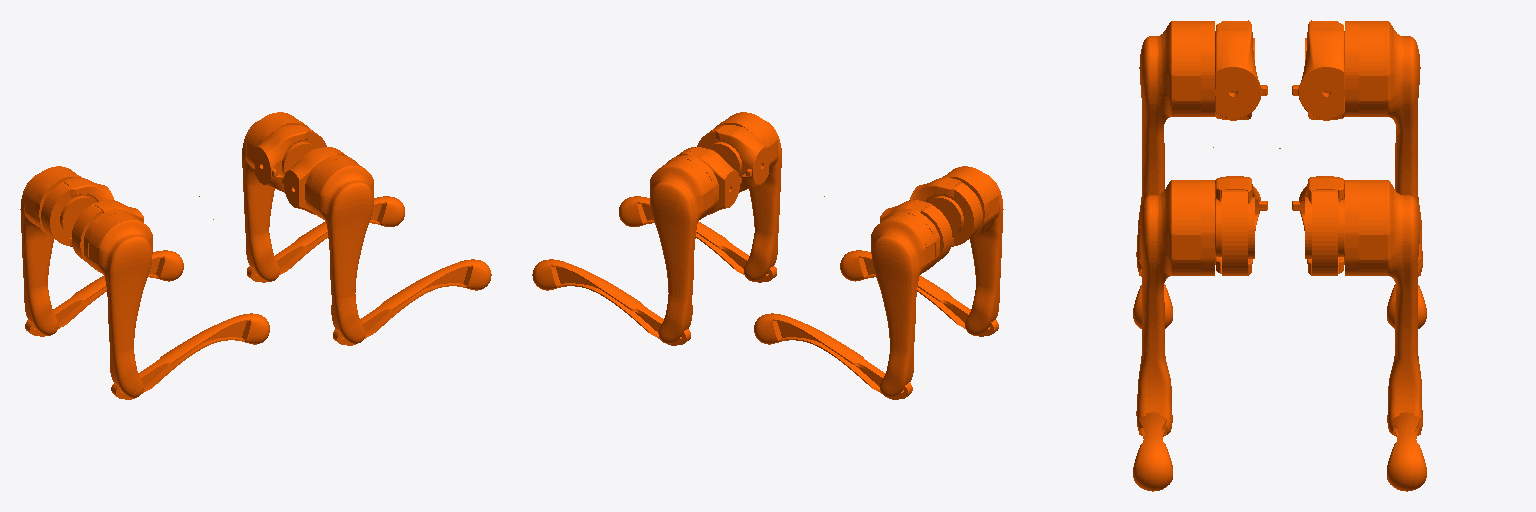
--- What the picture shows (computed from the rendered views, not written in the file) ---
3 views of the same robot in one strip: view 1: azimuth 30°, elevation 25°; view 2: azimuth 150°, elevation 25°; view 3: azimuth 270°, elevation 25° (orthographic).
Robot: widowGo1 — 37 links, 36 joints (18 revolute, 2 prismatic, 16 fixed); root link base; default pose: all joints at 0 but 6 set to mid-range because 0 is outside their limits (widow_left_finger = 0.026, widow_right_finger = -0.026, FR_calf_joint = -1.78, FL_calf_joint = -1.78, RR_calf_joint = -1.78, RL_calf_joint = -1.78).
Visible links, largest first — view 1: RR_thigh, FR_thigh, RL_thigh, FL_thigh, RR_calf, FR_calf, FL_hip, RL_hip, RL_calf, FL_calf, FR_hip, RR_hip; view 2: RL_thigh, FL_thigh, RR_thigh, FR_thigh, RL_calf, FL_calf, FR_hip, RR_hip, RR_calf, FR_calf, FL_hip, RL_hip; view 3: FR_thigh, FL_thigh, RR_thigh, RL_thigh, FR_hip, FL_hip, RR_hip, RL_hip, FR_calf, FL_calf, RR_calf, RL_calf.
Link boxes in pixels (<box>): RR_thigh: <box>84,209,152,397</box>; FR_thigh: <box>305,155,373,343</box>; RL_thigh: <box>20,166,81,335</box>; FL_thigh: <box>242,112,308,281</box>; RR_calf: <box>111,313,269,399</box>; FR_calf: <box>333,259,491,345</box>; FL_hip: <box>255,125,326,192</box>; RL_hip: <box>41,177,114,246</box>; RL_calf: <box>25,250,183,336</box>; FL_calf: <box>247,196,404,282</box>; FR_hip: <box>282,147,347,214</box>; RR_hip: <box>72,200,143,262</box>; RL_thigh: <box>871,209,939,397</box>; FL_thigh: <box>650,155,718,343</box>; RR_thigh: <box>942,166,1003,335</box>; FR_thigh: <box>715,112,781,281</box>; RL_calf: <box>754,313,912,399</box>; FL_calf: <box>532,259,690,345</box>; FR_hip: <box>697,125,768,192</box>; RR_hip: <box>909,177,982,246</box>; RR_calf: <box>840,250,998,336</box>; FR_calf: <box>619,196,776,282</box>; FL_hip: <box>676,147,741,214</box>; RL_hip: <box>880,200,951,262</box>; FR_thigh: <box>1136,180,1214,435</box>; FL_thigh: <box>1345,180,1422,435</box>; RR_thigh: <box>1136,21,1214,271</box>; RL_thigh: <box>1345,21,1422,271</box>; FR_hip: <box>1215,176,1267,275</box>; FL_hip: <box>1292,176,1344,275</box>; RR_hip: <box>1215,20,1267,120</box>; RL_hip: <box>1292,20,1344,120</box>; FR_calf: <box>1133,412,1172,491</box>; FL_calf: <box>1387,412,1426,491</box>; RR_calf: <box>1133,258,1172,328</box>; RL_calf: <box>1387,258,1426,328</box>.
Size in the robot's own frame: 0.6549 by 0.294 by 0.2793 metres.
12 mesh visuals loaded from 15 distinct referenced files (4 Collada DAE); not drawn: 12 (reference not matched to a file when rendering).

The robot description file, URDF, robot "widowGo1":
<?xml version="1.0" ?>
<!-- =================================================================================== -->
<!-- |    This document was autogenerated by xacro from robot.xacro                    | -->
<!-- |    EDITING THIS FILE BY HAND IS NOT RECOMMENDED                                 | -->
<!-- =================================================================================== -->
<robot name="widowGo1">
  <material name="black">
    <color rgba="0.0 0.0 0.0 1.0"/>
  </material>
  <material name="blue">
    <color rgba="0.0 0.0 0.8 1.0"/>
  </material>
  <material name="green">
    <color rgba="0.0 0.8 0.0 1.0"/>
  </material>
  <material name="grey">
    <color rgba="0.2 0.2 0.2 1.0"/>
  </material>
  <material name="silver">
    <color rgba="0.913725490196 0.913725490196 0.847058823529 1.0"/>
  </material>
  <material name="orange">
    <color rgba="1.0 0.423529411765 0.0392156862745 1.0"/>
  </material>
  <material name="brown">
    <color rgba="0.870588235294 0.811764705882 0.764705882353 1.0"/>
  </material>
  <material name="red">
    <color rgba="0.8 0.0 0.0 1.0"/>
  </material>
  <material name="white">
    <color rgba="1.0 1.0 1.0 1.0"/>
  </material>
  <!-- ros_control plugin -->
  <gazebo>
    <plugin filename="libgazebo_ros_control.so" name="gazebo_ros_control">
      <robotNamespace>/go1_gazebo</robotNamespace>
      <robotSimType>gazebo_ros_control/DefaultRobotHWSim</robotSimType>
    </plugin>
  </gazebo>
  <!-- Show the trajectory of trunk center. -->
  <gazebo>
    <plugin filename="libLinkPlot3DPlugin.so" name="3dplot">
      <frequency>10</frequency>
      <plot>
        <link>base</link>
        <pose>0 0 0 0 0 0</pose>
        <material>Gazebo/Yellow</material>
      </plot>
    </plugin>
  </gazebo>
  <!-- Show the trajectory of foot. You can add another trajectory about another foot. -->
  <!-- <gazebo>
        <plugin name="3dplot" filename="libLinkPlot3DPlugin.so">
            <frequency>100</frequency>
            <plot>
                <link>FL_foot</link>
                <pose>0 0 0 0 0 0</pose>
                <material>Gazebo/Green</material>
            </plot>
        </plugin>
    </gazebo> -->
  <gazebo>
    <plugin filename="libgazebo_ros_force.so" name="gazebo_ros_force">
      <bodyName>trunk</bodyName>
      <topicName>/apply_force/trunk</topicName>
    </plugin>
  </gazebo>
  <gazebo reference="imu_link">
    <gravity>true</gravity>
    <sensor name="imu_sensor" type="imu">
      <always_on>true</always_on>
      <update_rate>1000</update_rate>
      <visualize>true</visualize>
      <topic>__default_topic__</topic>
      <plugin filename="libgazebo_ros_imu_sensor.so" name="imu_plugin">
        <topicName>trunk_imu</topicName>
        <bodyName>imu_link</bodyName>
        <updateRateHZ>1000.0</updateRateHZ>
        <gaussianNoise>0.0</gaussianNoise>
        <xyzOffset>0 0 0</xyzOffset>
        <rpyOffset>0 0 0</rpyOffset>
        <frameName>imu_link</frameName>
      </plugin>
      <pose>0 0 0 0 0 0</pose>
    </sensor>
  </gazebo>
  <!-- Depth camera -->
  <!-- <gazebo>
        <plugin name="camera_plugin" filename="libgazebo_ros_openni_kinect.so">
            <baseline>0.025</baseline>
            <always_on>true</always_on>
            <updateRate>0.0</updateRate>
            <cameraName>unitree_camera_left</cameraName>
            <frameName>depthCamera_link_left</frameName>
            <imageTopicName>rgb/imageRaw_left</imageTopicName>
            <depthImageTopicName>depth/imageRaw_left</depthImageTopicName>
            <pointCloudTopicName>depth/points_left</pointCloudTopicName>
            <cameraInfoTopicName>rgb/cameraInfo_left</cameraInfoTopicName>              
            <depthImageCameraInfoTopicName>depth/cameraInfo_left</depthImageCameraInfoTopicName>            
            <pointCloudCutoff>0.1</pointCloudCutoff>                
            <pointCloudCutoffMax>1.5</pointCloudCutoffMax>                
            <distortionK1>0.0</distortionK1>
            <distortionK2>0.0</distortionK2>
            <distortionK3>0.0</distortionK3>
            <distortionT1>0.0</distortionT1>
            <distortionT2>0.0</distortionT2>
            <CxPrime>0.0</CxPrime>
            <Cx>0.0045</Cx>
            <Cy>0.0039</Cy>
            <focalLength>0.004</focalLength>
            <hackBaseline>0.0</hackBaseline>
        </plugin>
    </gazebo> -->
  <!-- <gazebo reference="depthCamera_link_left">
        <sensor name="unitree_camera_left" type="depth_camera">
            <update_rate>16</update_rate>
            <always_on>true</always_on>
            <visualize>true</visualize>
            <camera>
                <horizontal_fov>2.094</horizontal_fov>
                <image>
                    <width>928</width>
                    <height>800</height>
                    <format>R8G8B8</format>
                </image>
                <depth_camera></depth_camera>
                <clip>
                    <near>0.1</near>
                    <far>100</far>
                </clip>
            </camera>
            <plugin name="camera_plugin" filename="libgazebo_ros_openni_kinect.so">
                <baseline>0.025</baseline>
                <always_on>true</always_on>
                <updateRate>0.0</updateRate>
                <cameraName>unitree_camera_left</cameraName>
                <frameName>depthCamera_link_left</frameName>
                <imageTopicName>rgb/imageRaw_left</imageTopicName>
                <depthImageTopicName>depth/imageRaw_left</depthImageTopicName>
                <pointCloudTopicName>depth/points_left</pointCloudTopicName>
                <cameraInfoTopicName>rgb/cameraInfo_left</cameraInfoTopicName>              
                <depthImageCameraInfoTopicName>depth/cameraInfo_left</depthImageCameraInfoTopicName>            
                <pointCloudCutoff>0.1</pointCloudCutoff>                
                <pointCloudCutoffMax>1.5</pointCloudCutoffMax>                
                <distortionK1>0.0</distortionK1>
                <distortionK2>0.0</distortionK2>
                <distortionK3>0.0</distortionK3>
                <distortionT1>0.0</distortionT1>
                <distortionT2>0.0</distortionT2>
                <CxPrime>0.0</CxPrime>
                <Cx>0.0045</Cx>
                <Cy>0.0039</Cy>
                <focalLength>0.004</focalLength>
                <hackBaseline>0.0</hackBaseline>
            </plugin>
        </sensor>
    </gazebo> -->
  <gazebo reference="depthCamera_link_left">
    <sensor name="camera_link_camera" type="depth">
      <update_rate>20</update_rate>
      <camera>
        <horizontal_fov>1.047198</horizontal_fov>
        <image>
          <width>640</width>
          <height>480</height>
          <format>R8G8B8</format>
        </image>
        <clip>
          <near>0.05</near>
          <far>3</far>
        </clip>
      </camera>
      <plugin filename="libgazebo_ros_openni_kinect.so" name="camera_link_controller">
        <baseline>0.2</baseline>
        <alwaysOn>true</alwaysOn>
        <updateRate>1.0</updateRate>
        <cameraName>camera_link_ir</cameraName>
        <imageTopicName>/camera_link/color/image_raw</imageTopicName>
        <cameraInfoTopicName>/camera_link/color/camera_info</cameraInfoTopicName>
        <depthImageTopicName>/camera_link/depth/image_raw</depthImageTopicName>
        <depthImageInfoTopicName>/camera_link/depth/camera_info</depthImageInfoTopicName>
        <pointCloudTopicName>/camera_link/depth/points</pointCloudTopicName>
        <frameName>depthCamera_link_left</frameName>
        <pointCloudCutoff>0.5</pointCloudCutoff>
        <pointCloudCutoffMax>3.0</pointCloudCutoffMax>
        <distortionK1>0.00000001</distortionK1>
        <distortionK2>0.00000001</distortionK2>
        <distortionK3>0.00000001</distortionK3>
        <distortionT1>0.00000001</distortionT1>
        <distortionT2>0.00000001</distortionT2>
        <CxPrime>0</CxPrime>
        <Cx>0</Cx>
        <Cy>0</Cy>
        <focalLength>0</focalLength>
        <hackBaseline>0</hackBaseline>
      </plugin>
    </sensor>
  </gazebo>
  <!-- Foot contacts. -->
  <gazebo reference="FR_calf">
    <sensor name="FR_foot_contact" type="contact">
      <update_rate>100</update_rate>
      <plugin filename="libunitreeFootContactPlugin.so" name="contactPlugin"/>
      <contact>
        <collision>FR_calf_fixed_joint_lump__FR_foot_collision_1</collision>
      </contact>
    </sensor>
  </gazebo>
  <gazebo reference="FL_calf">
    <sensor name="FL_foot_contact" type="contact">
      <update_rate>100</update_rate>
      <plugin filename="libunitreeFootContactPlugin.so" name="contactPlugin"/>
      <contact>
        <collision>FL_calf_fixed_joint_lump__FL_foot_collision_1</collision>
      </contact>
    </sensor>
  </gazebo>
  <gazebo reference="RR_calf">
    <sensor name="RR_foot_contact" type="contact">
      <update_rate>100</update_rate>
      <plugin filename="libunitreeFootContactPlugin.so" name="contactPlugin"/>
      <contact>
        <collision>RR_calf_fixed_joint_lump__RR_foot_collision_1</collision>
      </contact>
    </sensor>
  </gazebo>
  <gazebo reference="RL_calf">
    <sensor name="RL_foot_contact" type="contact">
      <update_rate>100</update_rate>
      <plugin filename="libunitreeFootContactPlugin.so" name="contactPlugin"/>
      <contact>
        <collision>RL_calf_fixed_joint_lump__RL_foot_collision_1</collision>
      </contact>
    </sensor>
  </gazebo>
  <!-- Visualization of Foot contacts. -->
  <gazebo reference="FR_foot">
    <visual>
      <plugin filename="libunitreeDrawForcePlugin.so" name="drawForcePlugin">
        <topicName>FR_foot_contact</topicName>
      </plugin>
    </visual>
  </gazebo>
  <gazebo reference="FL_foot">
    <visual>
      <plugin filename="libunitreeDrawForcePlugin.so" name="drawForcePlugin">
        <topicName>FL_foot_contact</topicName>
      </plugin>
    </visual>
  </gazebo>
  <gazebo reference="RR_foot">
    <visual>
      <plugin filename="libunitreeDrawForcePlugin.so" name="drawForcePlugin">
        <topicName>RR_foot_contact</topicName>
      </plugin>
    </visual>
  </gazebo>
  <gazebo reference="RL_foot">
    <visual>
      <plugin filename="libunitreeDrawForcePlugin.so" name="drawForcePlugin">
        <topicName>RL_foot_contact</topicName>
      </plugin>
    </visual>
  </gazebo>
  <gazebo reference="base">
    <material>Gazebo/Green</material>
    <turnGravityOff>false</turnGravityOff>
  </gazebo>
  <gazebo reference="trunk">
    <mu1>0.2</mu1>
    <mu2>0.2</mu2>
    <kp value="1000000.0"/>
    <kd value="1.0"/>
  </gazebo>
  <gazebo reference="stick_link">
    <mu1>0.2</mu1>
    <mu2>0.2</mu2>
    <material>Gazebo/White</material>
  </gazebo>
  <gazebo reference="imu_link">
    <mu1>0.2</mu1>
    <mu2>0.2</mu2>
    <material>Gazebo/Red</material>
  </gazebo>
  <!-- FL leg -->
  <gazebo reference="FL_hip">
    <mu1>0.2</mu1>
    <mu2>0.2</mu2>
    <material>Gazebo/DarkGrey</material>
  </gazebo>
  <gazebo reference="FL_thigh">
    <mu1>0.2</mu1>
    <mu2>0.2</mu2>
    <self_collide>1</self_collide>
    <material>Gazebo/DarkGrey</material>
    <kp value="1000000.0"/>
    <kd value="1.0"/>
  </gazebo>
  <gazebo reference="FL_calf">
    <mu1>0.2</mu1>
    <mu2>0.2</mu2>
    <self_collide>1</self_collide>
  </gazebo>
  <gazebo reference="FL_foot">
    <mu1>0.6</mu1>
    <mu2>0.6</mu2>
    <self_collide>1</self_collide>
    <material>Gazebo/DarkGrey</material>
    <kp value="1000000.0"/>
    <kd value="1.0"/>
  </gazebo>
  <!-- FR leg -->
  <gazebo reference="FR_hip">
    <mu1>0.2</mu1>
    <mu2>0.2</mu2>
    <material>Gazebo/DarkGrey</material>
  </gazebo>
  <gazebo reference="FR_thigh">
    <mu1>0.2</mu1>
    <mu2>0.2</mu2>
    <self_collide>1</self_collide>
    <material>Gazebo/DarkGrey</material>
    <kp value="1000000.0"/>
    <kd value="1.0"/>
  </gazebo>
  <gazebo reference="FR_calf">
    <mu1>0.2</mu1>
    <mu2>0.2</mu2>
    <self_collide>1</self_collide>
  </gazebo>
  <gazebo reference="FR_foot">
    <mu1>0.6</mu1>
    <mu2>0.6</mu2>
    <self_collide>1</self_collide>
    <material>Gazebo/DarkGrey</material>
    <kp value="1000000.0"/>
    <kd value="1.0"/>
  </gazebo>
  <!-- RL leg -->
  <gazebo reference="RL_hip">
    <mu1>0.2</mu1>
    <mu2>0.2</mu2>
    <material>Gazebo/DarkGrey</material>
  </gazebo>
  <gazebo reference="RL_thigh">
    <mu1>0.2</mu1>
    <mu2>0.2</mu2>
    <self_collide>1</self_collide>
    <material>Gazebo/DarkGrey</material>
    <kp value="1000000.0"/>
    <kd value="1.0"/>
  </gazebo>
  <gazebo reference="RL_calf">
    <mu1>0.2</mu1>
    <mu2>0.2</mu2>
    <self_collide>1</self_collide>
  </gazebo>
  <gazebo reference="RL_foot">
    <mu1>0.6</mu1>
    <mu2>0.6</mu2>
    <self_collide>1</self_collide>
    <material>Gazebo/DarkGrey</material>
    <kp value="1000000.0"/>
    <kd value="1.0"/>
  </gazebo>
  <!-- RR leg -->
  <gazebo reference="RR_hip">
    <mu1>0.2</mu1>
    <mu2>0.2</mu2>
    <material>Gazebo/DarkGrey</material>
  </gazebo>
  <gazebo reference="RR_thigh">
    <mu1>0.2</mu1>
    <mu2>0.2</mu2>
    <self_collide>1</self_collide>
    <material>Gazebo/DarkGrey</material>
    <kp value="1000000.0"/>
    <kd value="1.0"/>
  </gazebo>
  <gazebo reference="RR_calf">
    <mu1>0.2</mu1>
    <mu2>0.2</mu2>
    <self_collide>1</self_collide>
  </gazebo>
  <gazebo reference="RR_foot">
    <mu1>0.6</mu1>
    <mu2>0.6</mu2>
    <self_collide>1</self_collide>
    <material>Gazebo/DarkGrey</material>
    <kp value="1000000.0"/>
    <kd value="1.0"/>
  </gazebo>
  <!-- <xacro:include filename="$(find go1_gazebo)/launch/stairs.urdf.xacro"/> -->
  <!-- <xacro:stairs stairs="15" xpos="0" ypos="0" zpos="0" /> -->
  <!-- Debug mode will hung up the robot, use "true" or "false" to switch it. -->
  <!-- <xacro:if value="$(arg DEBUG)">
    <link name="world"/>
    <joint name="base_static_joint" type="fixed">
      <origin rpy="0 0 0" xyz="0 0 0"/>
      <parent link="world"/>
      <child link="base"/>
    </joint>
  </xacro:if>  -->
  <link name="base">
    <visual>
      <origin rpy="0 0 0" xyz="0 0 0"/>
      <geometry>
        <box size="0.001 0.001 0.001"/>
      </geometry>
    </visual>
  </link>

  <!-- widow x config -->
  <joint name="widow_mount" type="fixed">
    <origin rpy="0 0 0" xyz="0.03 0 0.057"/>
    <parent link="base"/>
    <child link="wx250s/base_link"/>
  </joint>
  <link name="wx250s/base_link">
    <visual>
      <origin rpy="0 0 1.5707963267948966" xyz="0 0 0"/>
      <geometry>
        <mesh filename="../meshes/wx250s_meshes/wx250s_1_base.stl" scale="0.001 0.001 0.001"/>
      </geometry>
      <material name="black"/>
    </visual>
    <collision>
      <origin rpy="0 0 1.5707963267948966" xyz="0 0 0"/>
      <geometry>
        <mesh filename="../meshes/wx250s_meshes/wx250s_1_base.stl" scale="0.001 0.001 0.001"/>
      </geometry>
    </collision>
    <inertial>
      <origin rpy="0 0 1.5707963267948966" xyz="-0.0380446000 0.0006138920 0.0193354000"/>
      <mass value="0.538736"/>
      <inertia ixx="0.0021150000" ixy="-0.0000163500" ixz="0.0000006998" iyy="0.0006921000" iyz="0.0000464200" izz="0.0025240000"/>
    </inertial>
  </link>
  <joint name="widow_waist" type="revolute">
    <axis xyz="0 0 1"/>
    <!-- <limit effort="10" lower="-3.141582653589793" upper="3.141582653589793" velocity="3.141592653589793"/> -->
    <limit effort="10" velocity="3.141592653589793"/>
    <origin rpy="0 0 0" xyz="0 0 0.072"/>
    <parent link="wx250s/base_link"/>
    <child link="wx250s/shoulder_link"/>
    <dynamics friction="0"/>
  </joint>
  <transmission name="trans_waist">
    <type>transmission_interface/SimpleTransmission</type>
    <joint name="widow_waist">
      <hardwareInterface>hardware_interface/EffortJointInterface</hardwareInterface>
    </joint>
    <actuator name="waist_motor">
      <mechanicalReduction>1</mechanicalReduction>
    </actuator>
  </transmission>
  <link name="wx250s/shoulder_link">
    <visual>
      <origin rpy="0 0 1.5707963267948966" xyz="0 0 -0.003"/>
      <geometry>
        <mesh filename="../meshes/wx250s_meshes/wx250s_2_shoulder.stl" scale="0.001 0.001 0.001"/>
      </geometry>
      <material name="black"/>
    </visual>
    <collision>
      <origin rpy="0 0 1.5707963267948966" xyz="0 0 -0.003"/>
      <geometry>
        <mesh filename="../meshes/wx250s_meshes/wx250s_2_shoulder.stl" scale="0.001 0.001 0.001"/>
      </geometry>
    </collision>
    <inertial>
      <origin rpy="0 0 1.5707963267948966" xyz="0.0000223482 0.0000414609 0.0066287000"/>
      <mass value="0.480879"/>
      <inertia ixx="0.0003790000" ixy="0.0000000022" ixz="-0.0000003561" iyy="0.0005557000" iyz="0.0000012245" izz="0.0005889000"/>
    </inertial>
  </link>
  <joint name="widow_shoulder" type="revolute">
    <axis xyz="0 1 0"/>
    <limit effort="20" lower="-1.8849555921538759" upper="1.9896753472735358" velocity="3.141592653589793"/>
    <origin rpy="0 0 0" xyz="0 0 0.03865"/>
    <parent link="wx250s/shoulder_link"/>
    <child link="wx250s/upper_arm_link"/>
    <dynamics friction="0"/>
  </joint>
  <transmission name="trans_shoulder">
    <type>transmission_interface/SimpleTransmission</type>
    <joint name="widow_shoulder">
      <hardwareInterface>hardware_interface/EffortJointInterface</hardwareInterface>
    </joint>
    <actuator name="shoulder_motor">
      <mechanicalReduction>1</mechanicalReduction>
    </actuator>
  </transmission>
  <link name="wx250s/upper_arm_link">
    <visual>
      <origin rpy="0 0 1.5707963267948966" xyz="0 0 0"/>
      <geometry>
        <mesh filename="../meshes/wx250s_meshes/wx250s_3_upper_arm.stl" scale="0.001 0.001 0.001"/>
      </geometry>
      <material name="black"/>
    </visual>
    <collision>
      <origin rpy="0 0 1.5707963267948966" xyz="0 0 0"/>
      <geometry>
        <mesh filename="../meshes/wx250s_meshes/wx250s_3_upper_arm.stl" scale="0.001 0.001 0.001"/>
      </geometry>
    </collision>
    <inertial>
      <origin rpy="0 0 1.5707963267948966" xyz="0.0171605000 0.0000002725 0.1913230000"/>
      <mass value="0.430811"/>
      <inertia ixx="0.0034630000" ixy="-0.0000000001" ixz="-0.0000000002" iyy="0.0035870000" iyz="0.0004272000" izz="0.0004566000"/>
    </inertial>
  </link>
  <joint name="widow_elbow" type="revolute">
    <axis xyz="0 1 0"/>
    <limit effort="15" lower="-2.1467549799530254" upper="1.6057029118347832" velocity="3.141592653589793"/>
    <origin rpy="0 0 0" xyz="0.04975 0 0.25"/>
    <parent link="wx250s/upper_arm_link"/>
    <child link="wx250s/upper_forearm_link"/>
    <dynamics friction="0"/>
  </joint>
  <transmission name="trans_elbow">
    <type>transmission_interface/SimpleTransmission</type>
    <joint name="widow_elbow">
      <hardwareInterface>hardware_interface/EffortJointInterface</hardwareInterface>
    </joint>
    <actuator name="elbow_motor">
      <mechanicalReduction>1</mechanicalReduction>
    </actuator>
  </transmission>
  <link name="wx250s/upper_forearm_link">
    <visual>
      <origin rpy="0 0 0" xyz="0 0 0"/>
      <geometry>
        <mesh filename="../meshes/wx250s_meshes/wx250s_4_upper_forearm.stl" scale="0.001 0.001 0.001"/>
      </geometry>
      <material name="black"/>
    </visual>
    <collision>
      <origin rpy="0 0 0" xyz="0 0 0"/>
      <geometry>
        <mesh filename="../meshes/wx250s_meshes/wx250s_4_upper_forearm.stl" scale="0.001 0.001 0.001"/>
      </geometry>
    </collision>
    <inertial>
      <origin rpy="0 0 0" xyz="0.1079630000 0.0001158760 0"/>
      <mass value="0.234589"/>
      <inertia ixx="0.0000397100" ixy="0.0000023528" ixz="0" iyy="0.0008878000" iyz="0" izz="0.0008880000"/>
    </inertial>
  </link>
  <joint name="widow_forearm_roll" type="revolute">
    <axis xyz="1 0 0"/>
    <limit effort="2" lower="-3.141582653589793" upper="3.141582653589793" velocity="3.141592653589793"/>
    <origin rpy="0 0 0" xyz="0.175 0 0"/>
    <parent link="wx250s/upper_forearm_link"/>
    <child link="wx250s/lower_forearm_link"/>
    <dynamics friction="0"/>
  </joint>
  <transmission name="trans_forearm_roll">
    <type>transmission_interface/SimpleTransmission</type>
    <joint name="widow_forearm_roll">
      <hardwareInterface>hardware_interface/EffortJointInterface</hardwareInterface>
    </joint>
    <actuator name="forearm_roll_motor">
      <mechanicalReduction>1</mechanicalReduction>
    </actuator>
  </transmission>
  <link name="wx250s/lower_forearm_link">
    <visual>
      <origin rpy="3.141592653589793 0 0" xyz="0 0 0"/>
      <geometry>
        <mesh filename="../meshes/wx250s_meshes/wx250s_5_lower_forearm.stl" scale="0.001 0.001 0.001"/>
      </geometry>
      <material name="black"/>
    </visual>
    <collision>
      <origin rpy="3.141592653589793 0 0" xyz="0 0 0"/>
      <geometry>
        <mesh filename="../meshes/wx250s_meshes/wx250s_5_lower_forearm.stl" scale="0.001 0.001 0.001"/>
      </geometry>
    </collision>
    <inertial>
      <origin rpy="3.141592653589793 0 0" xyz="0.0374395000 0.0052225200 0"/>
      <mass value="0.220991"/>
      <inertia ixx="0.0000636900" ixy="-0.0000229200" ixz="0" iyy="0.0001677000" iyz="0" izz="0.0001834000"/>
    </inertial>
  </link>
  <joint name="widow_wrist_angle" type="revolute">
    <axis xyz="0 1 0"/>
    <limit effort="5" lower="-1.7453292519943295" upper="2.1467549799530254" velocity="3.141592653589793"/>
    <origin rpy="0 0 0" xyz="0.075 0 0"/>
    <parent link="wx250s/lower_forearm_link"/>
    <child link="wx250s/wrist_link"/>
    <dynamics friction="0"/>
  </joint>
  <transmission name="trans_wrist_angle">
    <type>transmission_interface/SimpleTransmission</type>
    <joint name="widow_wrist_angle">
      <hardwareInterface>hardware_interface/EffortJointInterface</hardwareInterface>
    </joint>
    <actuator name="wrist_angle_motor">
      <mechanicalReduction>1</mechanicalReduction>
    </actuator>
  </transmission>
  <link name="wx250s/wrist_link">
    <visual>
      <origin rpy="0 0 1.5707963267948966" xyz="0 0 0"/>
      <geometry>
        <mesh filename="../meshes/wx250s_meshes/wx250s_6_wrist.stl" scale="0.001 0.001 0.001"/>
      </geometry>
      <material name="black"/>
    </visual>
    <collision>
      <origin rpy="0 0 1.5707963267948966" xyz="0 0 0"/>
      <geometry>
        <mesh filename="../meshes/wx250s_meshes/wx250s_6_wrist.stl" scale="0.001 0.001 0.001"/>
      </geometry>
    </collision>
    <inertial>
      <origin rpy="0 0 1.5707963267948966" xyz="0.0423600000 -0.0000106630 0.0105770000"/>
      <mass value="0.084957"/>
      <inertia ixx="0.0000308200" ixy="0.0000000191" ixz="0.0000000023" iyy="0.0000282200" iyz="0.0000025481" izz="0.0000315200"/>
    </inertial>
  </link>
  <joint name="widow_wrist_rotate" type="revolute">
    <axis xyz="1 0 0"/>
    <limit effort="1" lower="-3.141582653589793" upper="3.141582653589793" velocity="3.141592653589793"/>
    <origin rpy="0 0 0" xyz="0.065 0 0"/>
    <parent link="wx250s/wrist_link"/>
    <child link="wx250s/gripper_link"/>
    <dynamics friction="0"/>
  </joint>
  <transmission name="trans_wrist_rotate">
    <type>transmission_interface/SimpleTransmission</type>
    <joint name="widow_wrist_rotate">
      <hardwareInterface>hardware_interface/EffortJointInterface</hardwareInterface>
    </joint>
    <actuator name="wrist_rotate_motor">
      <mechanicalReduction>1</mechanicalReduction>
    </actuator>
  </transmission>
  <link name="wx250s/gripper_link">
    <visual>
      <origin rpy="0 0 1.5707963267948966" xyz="-0.02 0 0"/>
      <geometry>
        <mesh filename="../meshes/wx250s_meshes/wx250s_7_gripper.stl" scale="0.001 0.001 0.001"/>
      </geometry>
      <material name="black"/>
    </visual>
    <collision>
      <origin rpy="0 0 1.5707963267948966" xyz="-0.02 0 0"/>
      <geometry>
        <mesh filename="../meshes/wx250s_meshes/wx250s_7_gripper.stl" scale="0.001 0.001 0.001"/>
      </geometry>
    </collision>
    <inertial>
      <origin rpy="0 0 1.5707963267948966" xyz="0.0216310000 0.0000002516 0.0114100000"/>
      <mass value="0.072885"/>
      <inertia ixx="0.0000253700" ixy="0.0000000000" ixz="0.0000000000" iyy="0.0000183600" iyz="0.0000004340" izz="0.0000167400"/>
    </inertial>
  </link>
  <joint name="ee_arm" type="fixed">
    <axis xyz="1 0 0"/>
    <origin rpy="0 0 0" xyz="0.043 0 0"/>
    <parent link="wx250s/gripper_link"/>
    <child link="wx250s/ee_arm_link"/>
  </joint>
  <link name="wx250s/ee_arm_link">
    <inertial>
      <mass value="0.001"/>
      <inertia ixx="0.001" ixy="0" ixz="0" iyy="0.001" iyz="0" izz="0.001"/>
    </inertial>
  </link>
  <joint name="gripper" type="fixed">
    <axis xyz="1 0 0"/>
    <limit effort="1" velocity="3.141592653589793"/>
    <origin rpy="0 0 0" xyz="0.0055 0 0"/>
    <parent link="wx250s/ee_arm_link"/>
    <child link="wx250s/gripper_prop_link"/>
    <dynamics friction="0"/>
  </joint>
  <!-- <transmission name="trans_gripper">
    <type>transmission_interface/SimpleTransmission</type>
    <joint name="gripper">
      <hardwareInterface>hardware_interface/EffortJointInterface</hardwareInterface>
    </joint>
    <actuator name="gripper_motor">
      <mechanicalReduction>1</mechanicalReduction>
    </actuator>
  </transmission> -->
  <link name="wx250s/gripper_prop_link">
    <visual>
      <origin rpy="0 0 1.5707963267948966" xyz="-0.0685 0 0"/>
      <geometry>
        <mesh filename="../meshes/wx250s_meshes/wx250s_8_gripper_prop.stl" scale="0.001 0.001 0.001"/>
      </geometry>
      <material name="black"/>
    </visual>
    <collision>
      <origin rpy="0 0 1.5707963267948966" xyz="-0.0685 0 0"/>
      <geometry>
        <mesh filename="../meshes/wx250s_meshes/wx250s_8_gripper_prop.stl" scale="0.001 0.001 0.001"/>
      </geometry>
    </collision>
    <inertial>
      <origin rpy="0 0 1.5707963267948966" xyz="0.0008460000 -0.0000016817 0.0000420000"/>
      <mass value="0.00434"/>
      <inertia ixx="0.0000005923" ixy="0.0000000000" ixz="0.0000003195" iyy="0.0000011156" iyz="-0.0000000004" izz="0.0000005743"/>
    </inertial>
  </link>
  <!-- If the AR tag is being used, then add the AR tag mount -->
  <!-- If the gripper bar is being used, then also add the gripper bar -->
  <joint name="gripper_bar" type="fixed">
    <axis xyz="1 0 0"/>
    <origin rpy="0 0 0" xyz="0 0 0"/>
    <parent link="wx250s/ee_arm_link"/>
    <child link="wx250s/gripper_bar_link"/>
  </joint>
  <link name="wx250s/gripper_bar_link">
    <visual>
      <origin rpy="0 0 1.5707963267948966" xyz="-0.063 0 0"/>
      <geometry>
        <mesh filename="../meshes/wx250s_meshes/wx250s_9_gripper_bar.stl" scale="0.001 0.001 0.001"/>
      </geometry>
      <material name="black"/>
    </visual>
    <collision>
      <origin rpy="0 0 1.5707963267948966" xyz="-0.063 0 0"/>
      <geometry>
        <mesh filename="../meshes/wx250s_meshes/wx250s_9_gripper_bar.stl" scale="0.001 0.001 0.001"/>
      </geometry>
    </collision>
    <inertial>
      <origin rpy="0 0 1.5707963267948966" xyz="0.0096870000 0.0000008177 0.0049620000"/>
      <mass value="0.034199"/>
      <inertia ixx="0.0000074125" ixy="-0.0000000008" ixz="-0.0000000006" iyy="0.0000284300" iyz="-0.0000013889" izz="0.0000286000"/>
    </inertial>
  </link>
  <joint name="ee_bar" type="fixed">
    <axis xyz="1 0 0"/>
    <origin rpy="0 0 0" xyz="0.023 0 0"/>
    <parent link="wx250s/gripper_bar_link"/>
    <child link="wx250s/fingers_link"/>
  </joint>
  <link name="wx250s/fingers_link">
    <inertial>
      <mass value="0.001"/>
      <inertia ixx="0.001" ixy="0" ixz="0" iyy="0.001" iyz="0" izz="0.001"/>
    </inertial>
  </link>
  <!-- If the gripper fingers are being used, add those as well -->
  <joint name="widow_left_finger" type="prismatic">
    <axis xyz="0 1 0"/>
    <limit effort="5" lower="0.015" upper="0.037" velocity="1"/>
    <origin rpy="0 0 0" xyz="0 0 0"/>
    <parent link="wx250s/fingers_link"/>
    <child link="wx250s/left_finger_link"/>
    <dynamics friction="1000"/>
  </joint>
  <transmission name="trans_left_finger">
    <type>transmission_interface/SimpleTransmission</type>
    <joint name="widow_left_finger">
      <hardwareInterface>hardware_interface/EffortJointInterface</hardwareInterface>
    </joint>
    <actuator name="left_finger_motor">
      <mechanicalReduction>1</mechanicalReduction>
    </actuator>
  </transmission>
  <link name="wx250s/left_finger_link">
    <visual>
      <origin rpy="3.141592653589793 3.141592653589793 0" xyz="0 0.005 0"/>
      <geometry>
        <mesh filename="../meshes/wx250s_meshes/wx250s_10_gripper_finger.stl" scale="0.001 0.001 0.001"/>
      </geometry>
      <material name="black"/>
    </visual>
    <collision>
      <origin rpy="3.141592653589793 3.141592653589793 0" xyz="0 0.005 0"/>
      <geometry>
        <mesh filename="../meshes/wx250s_meshes/wx250s_10_gripper_finger.stl" scale="0.001 0.001 0.001"/>
      </geometry>
    </collision>
    <inertial>
      <origin rpy="3.141592653589793 3.141592653589793 1.5707963267948966" xyz="0.0138160000 0.0000000000 0.0000000000"/>
      <mass value="0.016246"/>
      <inertia ixx="0.0000047310" ixy="-0.0000004560" ixz="0.0000000000" iyy="0.0000015506" iyz="0.0000000000" izz="0.0000037467"/>
    </inertial>
  </link>
  <joint name="widow_right_finger" type="prismatic">
    <axis xyz="0 1 0"/>
    <limit effort="5" lower="-0.037" upper="-0.015" velocity="1"/>
    <origin rpy="0 0 0" xyz="0 0 0"/>
    <parent link="wx250s/fingers_link"/>
    <child link="wx250s/right_finger_link"/>
    <dynamics friction="1000"/>
    <mimic joint="widow_left_finger" multiplier="-1" offset="0"/>
  </joint>
  <transmission name="trans_right_finger">
    <type>transmission_interface/SimpleTransmission</type>
    <joint name="widow_right_finger">
      <hardwareInterface>hardware_interface/EffortJointInterface</hardwareInterface>
    </joint>
    <actuator name="right_finger_motor">
      <mechanicalReduction>1</mechanicalReduction>
    </actuator>
  </transmission>
  <link name="wx250s/right_finger_link">
    <visual>
      <origin rpy="0 3.141592653589793 0" xyz="0 -0.005 0"/>
      <geometry>
        <mesh filename="../meshes/wx250s_meshes/wx250s_10_gripper_finger.stl" scale="0.001 0.001 0.001"/>
      </geometry>
      <material name="black"/>
    </visual>
    <collision>
      <origin rpy="0 3.141592653589793 0" xyz="0 -0.005 0"/>
      <geometry>
        <mesh filename="../meshes/wx250s_meshes/wx250s_10_gripper_finger.stl" scale="0.001 0.001 0.001"/>
      </geometry>
    </collision>
    <inertial>
      <origin rpy="0 3.141592653589793 1.5707963267948966" xyz="0.0138160000 0.0000000000  0.0000000000"/>
      <mass value="0.016246"/>
      <inertia ixx="0.0000047310" ixy="0.0000004560" ixz="0.0000000000" iyy="0.0000015506" iyz="0.0000000000" izz="0.0000037467"/>
    </inertial>
  </link>
  <joint name="ee_gripper" type="fixed" dont_collapse="true">
    <axis xyz="1 0 0"/>
    <origin rpy="0 0 0" xyz="0.027575 0 0"/>
    <parent link="wx250s/fingers_link"/>
    <child link="wx250s/ee_gripper_link"/>
  </joint>
  <link name="wx250s/ee_gripper_link">
    <inertial>
      <mass value="0.001"/>
      <inertia ixx="0.001" ixy="0" ixz="0" iyy="0.001" iyz="0" izz="0.001"/>
    </inertial>
  </link>
<!-- widow x config ends -->

  <joint name="floating_base" type="fixed" dont_collapse="true">
    <origin rpy="0 0 0" xyz="0 0 0"/>
    <parent link="base"/>
    <child link="trunk"/>
  </joint>
  <link name="trunk">
    <visual>
      <origin rpy="0 0 0" xyz="0 0 0"/>
      <geometry>
        <mesh filename="../meshes/trunk.dae" scale="1 1 1"/>
      </geometry>
      <material name="orange"/>
    </visual>
    <collision>
      <origin rpy="0 0 0" xyz="0 0 0"/>
      <geometry>
        <box size="0.3762 0.0935 0.114"/>
      </geometry>
    </collision>
    <inertial>
      <origin rpy="0 0 0" xyz="0.0223 0.002 -0.0005"/>
      <mass value="5.204"/>
      <inertia ixx="0.0168352186" ixy="0.0004636141" ixz="0.0002367952" iyy="0.0656071082" iyz="3.6671e-05" izz="0.0742720659"/>
    </inertial>
  </link>
  <joint name="imu_joint" type="fixed">
    <parent link="trunk"/>
    <child link="imu_link"/>
    <origin rpy="0 0 0" xyz="-0.01592 -0.06659 -0.00617"/>
  </joint>
  <link name="imu_link">
    <inertial>
      <mass value="0.001"/>
      <origin rpy="0 0 0" xyz="0 0 0"/>
      <inertia ixx="0.0001" ixy="0" ixz="0" iyy="0.0001" iyz="0" izz="0.0001"/>
    </inertial>
    <visual>
      <origin rpy="0 0 0" xyz="0 0 0"/>
      <geometry>
        <box size="0.001 0.001 0.001"/>
      </geometry>
      <!-- <material name="red"/> -->
    </visual>
    <collision>
      <origin rpy="0 0 0" xyz="0 0 0"/>
      <geometry>
        <box size=".001 .001 .001"/>
      </geometry>
    </collision>
  </link>
  <joint name="FR_hip_joint" type="revolute">
    <origin rpy="0 0 0" xyz="0.1881 -0.04675 0"/>
    <parent link="trunk"/>
    <child link="FR_hip"/>
    <axis xyz="1 0 0"/>
    <dynamics damping="0" friction="0"/>
    <limit effort="23.7" lower="-1.0471975512" upper="1.0471975512" velocity="30.1"/>
  </joint>
  <link name="FR_hip">
    <visual>
      <origin rpy="3.14159265359 0 0" xyz="0 0 0"/>
      <geometry>
        <mesh filename="../meshes/hip.dae" scale="1 1 1"/>
      </geometry>
      <material name="orange"/>
    </visual>
    <!-- <collision>
      <origin rpy="1.57079632679 0 0" xyz="0 0 0"/>
      <geometry>
        <cylinder length="0.04" radius="0.046"/>
      </geometry>
    </collision> -->
    <inertial>
      <origin rpy="0 0 0" xyz="-0.00541 0.00074 6e-06"/>
      <mass value="0.591"/>
      <inertia ixx="0.000374268192" ixy="-3.6844422e-05" ixz="-9.86754e-07" iyy="0.000635923669" iyz="1.172894e-06" izz="0.000457647394"/>
    </inertial>
  </link>
  <joint name="FR_hip_fixed" type="fixed">
    <origin rpy="0 0 0" xyz="0 -0.08 0"/>
    <parent link="FR_hip"/>
    <child link="FR_thigh_shoulder"/>
  </joint>
  <!-- this link is only for collision -->
  <link name="FR_thigh_shoulder">
    <!-- <collision>
      <origin rpy="1.57079632679 0 0" xyz="0 0 0"/>
      <geometry>
        <cylinder length="0.032" radius="0.041"/>
      </geometry>
    </collision> -->
  </link>
  <joint name="FR_thigh_joint" type="revolute">
    <origin rpy="0 0 0" xyz="0 -0.08 0"/>
    <parent link="FR_hip"/>
    <child link="FR_thigh"/>
    <axis xyz="0 1 0"/>
    <dynamics damping="0" friction="0"/>
    <limit effort="23.7" lower="-0.663225115758" upper="2.96705972839" velocity="30.1"/>
  </joint>
  <link name="FR_thigh">
    <visual>
      <origin rpy="0 0 0" xyz="0 0 0"/>
      <geometry>
        <mesh filename="../meshes/thigh_mirror.dae" scale="1 1 1"/>
      </geometry>
      <material name="orange"/>
    </visual>
    <collision>
      <origin rpy="0 1.57079632679 0" xyz="0 0 -0.1065"/>
      <geometry>
        <box size="0.213 0.0245 0.034"/>
      </geometry>
    </collision>
    <inertial>
      <origin rpy="0 0 0" xyz="-0.003468 0.018947 -0.032736"/>
      <mass value="0.92"/>
      <inertia ixx="0.005851561134" ixy="-1.783284e-06" ixz="0.000328291374" iyy="0.005596155105" iyz="-2.1430713e-05" izz="0.00107157026"/>
    </inertial>
  </link>
  <joint name="FR_calf_joint" type="revolute">
    <origin rpy="0 0 0" xyz="0 0 -0.213"/>
    <parent link="FR_thigh"/>
    <child link="FR_calf"/>
    <axis xyz="0 1 0"/>
    <dynamics damping="0" friction="0"/>
    <limit effort="23.7" lower="-2.72271363311" upper="-0.837758040957" velocity="30.1"/>
  </joint>
  <link name="FR_calf">
    <visual>
      <origin rpy="0 0 0" xyz="0 0 0"/>
      <geometry>
        <mesh filename="../meshes/calf.dae" scale="1 1 1"/>
      </geometry>
      <material name="orange"/>
    </visual>
    <collision>
      <origin rpy="0 1.57079632679 0" xyz="0 0 -0.1065"/>
      <geometry>
        <box size="0.213 0.016 0.016"/>
      </geometry>
    </collision>
    <inertial>
      <origin rpy="0 0 0" xyz="0.006286 0.001307 -0.122269"/>
      <mass value="0.131"/>
      <inertia ixx="0.002939186297" ixy="1.440899e-06" ixz="-0.00010535955" iyy="0.00295576935" iyz="-2.4397752e-05" izz="3.0273372e-05"/>
    </inertial>
  </link>
  <joint name="FR_foot_fixed" type="fixed" dont_collapse="true">
    <origin rpy="0 0 0" xyz="0 0 -0.213"/>
    <parent link="FR_calf"/>
    <child link="FR_foot"/>
  </joint>
  <link name="FR_foot">
    <visual>
      <origin rpy="0 0 0" xyz="0 0 0"/>
      <geometry>
        <sphere radius="0.01"/>
      </geometry>
      <material name="orange"/>
    </visual>
    <collision>
      <origin rpy="0 0 0" xyz="0 0 0"/>
      <geometry>
        <sphere radius="0.02"/>
      </geometry>
    </collision>
    <inertial>
      <mass value="0.06"/>
      <inertia ixx="9.6e-06" ixy="0.0" ixz="0.0" iyy="9.6e-06" iyz="0.0" izz="9.6e-06"/>
    </inertial>
  </link>
  <transmission name="FR_hip_tran">
    <type>transmission_interface/SimpleTransmission</type>
    <joint name="FR_hip_joint">
      <hardwareInterface>hardware_interface/EffortJointInterface</hardwareInterface>
    </joint>
    <actuator name="FR_hip_motor">
      <hardwareInterface>hardware_interface/EffortJointInterface</hardwareInterface>
      <mechanicalReduction>1</mechanicalReduction>
    </actuator>
  </transmission>
  <transmission name="FR_thigh_tran">
    <type>transmission_interface/SimpleTransmission</type>
    <joint name="FR_thigh_joint">
      <hardwareInterface>hardware_interface/EffortJointInterface</hardwareInterface>
    </joint>
    <actuator name="FR_thigh_motor">
      <hardwareInterface>hardware_interface/EffortJointInterface</hardwareInterface>
      <mechanicalReduction>1</mechanicalReduction>
    </actuator>
  </transmission>
  <transmission name="FR_calf_tran">
    <type>transmission_interface/SimpleTransmission</type>
    <joint name="FR_calf_joint">
      <hardwareInterface>hardware_interface/EffortJointInterface</hardwareInterface>
    </joint>
    <actuator name="FR_calf_motor">
      <hardwareInterface>hardware_interface/EffortJointInterface</hardwareInterface>
      <mechanicalReduction>1</mechanicalReduction>
    </actuator>
  </transmission>
  <joint name="FL_hip_joint" type="revolute">
    <origin rpy="0 0 0" xyz="0.1881 0.04675 0"/>
    <parent link="trunk"/>
    <child link="FL_hip"/>
    <axis xyz="1 0 0"/>
    <dynamics damping="0" friction="0"/>
    <limit effort="23.7" lower="-1.0471975512" upper="1.0471975512" velocity="30.1"/>
  </joint>
  <link name="FL_hip">
    <visual>
      <origin rpy="0 0 0" xyz="0 0 0"/>
      <geometry>
        <mesh filename="../meshes/hip.dae" scale="1 1 1"/>
      </geometry>
      <material name="orange"/>
    </visual>
    <!-- <collision>
      <origin rpy="1.57079632679 0 0" xyz="0 0 0"/>
      <geometry>
        <cylinder length="0.04" radius="0.046"/>
      </geometry>
    </collision> -->
    <inertial>
      <origin rpy="0 0 0" xyz="-0.00541 -0.00074 6e-06"/>
      <mass value="0.591"/>
      <inertia ixx="0.000374268192" ixy="3.6844422e-05" ixz="-9.86754e-07" iyy="0.000635923669" iyz="-1.172894e-06" izz="0.000457647394"/>
    </inertial>
  </link>
  <joint name="FL_hip_fixed" type="fixed">
    <origin rpy="0 0 0" xyz="0 0.08 0"/>
    <parent link="FL_hip"/>
    <child link="FL_thigh_shoulder"/>
  </joint>
  <!-- this link is only for collision -->
  <link name="FL_thigh_shoulder">
    <!-- <collision>
      <origin rpy="1.57079632679 0 0" xyz="0 0 0"/>
      <geometry>
        <cylinder length="0.032" radius="0.041"/>
      </geometry>
    </collision> -->
  </link>
  <joint name="FL_thigh_joint" type="revolute">
    <origin rpy="0 0 0" xyz="0 0.08 0"/>
    <parent link="FL_hip"/>
    <child link="FL_thigh"/>
    <axis xyz="0 1 0"/>
    <dynamics damping="0" friction="0"/>
    <limit effort="23.7" lower="-0.663225115758" upper="2.96705972839" velocity="30.1"/>
  </joint>
  <link name="FL_thigh">
    <visual>
      <origin rpy="0 0 0" xyz="0 0 0"/>
      <geometry>
        <mesh filename="../meshes/thigh.dae" scale="1 1 1"/>
      </geometry>
      <material name="orange"/>
    </visual>
    <collision>
      <origin rpy="0 1.57079632679 0" xyz="0 0 -0.1065"/>
      <geometry>
        <box size="0.213 0.0245 0.034"/>
      </geometry>
    </collision>
    <inertial>
      <origin rpy="0 0 0" xyz="-0.003468 -0.018947 -0.032736"/>
      <mass value="0.92"/>
      <inertia ixx="0.005851561134" ixy="1.783284e-06" ixz="0.000328291374" iyy="0.005596155105" iyz="2.1430713e-05" izz="0.00107157026"/>
    </inertial>
  </link>
  <joint name="FL_calf_joint" type="revolute">
    <origin rpy="0 0 0" xyz="0 0 -0.213"/>
    <parent link="FL_thigh"/>
    <child link="FL_calf"/>
    <axis xyz="0 1 0"/>
    <dynamics damping="0" friction="0"/>
    <limit effort="23.7" lower="-2.72271363311" upper="-0.837758040957" velocity="30.1"/>
  </joint>
  <link name="FL_calf">
    <visual>
      <origin rpy="0 0 0" xyz="0 0 0"/>
      <geometry>
        <mesh filename="../meshes/calf.dae" scale="1 1 1"/>
      </geometry>
      <material name="orange"/>
    </visual>
    <collision>
      <origin rpy="0 1.57079632679 0" xyz="0 0 -0.1065"/>
      <geometry>
        <box size="0.213 0.016 0.016"/>
      </geometry>
    </collision>
    <inertial>
      <origin rpy="0 0 0" xyz="0.006286 0.001307 -0.122269"/>
      <mass value="0.131"/>
      <inertia ixx="0.002939186297" ixy="1.440899e-06" ixz="-0.00010535955" iyy="0.00295576935" iyz="-2.4397752e-05" izz="3.0273372e-05"/>
    </inertial>
  </link>
  <joint name="FL_foot_fixed" type="fixed" dont_collapse="true">
    <origin rpy="0 0 0" xyz="0 0 -0.213"/>
    <parent link="FL_calf"/>
    <child link="FL_foot"/>
  </joint>
  <link name="FL_foot">
    <visual>
      <origin rpy="0 0 0" xyz="0 0 0"/>
      <geometry>
        <sphere radius="0.01"/>
      </geometry>
      <material name="orange"/>
    </visual>
    <collision>
      <origin rpy="0 0 0" xyz="0 0 0"/>
      <geometry>
        <sphere radius="0.02"/>
      </geometry>
    </collision>
    <inertial>
      <mass value="0.06"/>
      <inertia ixx="9.6e-06" ixy="0.0" ixz="0.0" iyy="9.6e-06" iyz="0.0" izz="9.6e-06"/>
    </inertial>
  </link>
  <transmission name="FL_hip_tran">
    <type>transmission_interface/SimpleTransmission</type>
    <joint name="FL_hip_joint">
      <hardwareInterface>hardware_interface/EffortJointInterface</hardwareInterface>
    </joint>
    <actuator name="FL_hip_motor">
      <hardwareInterface>hardware_interface/EffortJointInterface</hardwareInterface>
      <mechanicalReduction>1</mechanicalReduction>
    </actuator>
  </transmission>
  <transmission name="FL_thigh_tran">
    <type>transmission_interface/SimpleTransmission</type>
    <joint name="FL_thigh_joint">
      <hardwareInterface>hardware_interface/EffortJointInterface</hardwareInterface>
    </joint>
    <actuator name="FL_thigh_motor">
      <hardwareInterface>hardware_interface/EffortJointInterface</hardwareInterface>
      <mechanicalReduction>1</mechanicalReduction>
    </actuator>
  </transmission>
  <transmission name="FL_calf_tran">
    <type>transmission_interface/SimpleTransmission</type>
    <joint name="FL_calf_joint">
      <hardwareInterface>hardware_interface/EffortJointInterface</hardwareInterface>
    </joint>
    <actuator name="FL_calf_motor">
      <hardwareInterface>hardware_interface/EffortJointInterface</hardwareInterface>
      <mechanicalReduction>1</mechanicalReduction>
    </actuator>
  </transmission>
  <joint name="RR_hip_joint" type="revolute">
    <origin rpy="0 0 0" xyz="-0.1881 -0.04675 0"/>
    <parent link="trunk"/>
    <child link="RR_hip"/>
    <axis xyz="1 0 0"/>
    <dynamics damping="0" friction="0"/>
    <limit effort="23.7" lower="-1.0471975512" upper="1.0471975512" velocity="30.1"/>
  </joint>
  <link name="RR_hip">
    <visual>
      <origin rpy="3.14159265359 3.14159265359 0" xyz="0 0 0"/>
      <geometry>
        <mesh filename="../meshes/hip.dae" scale="1 1 1"/>
      </geometry>
      <material name="orange"/>
    </visual>
    <!-- <collision>
      <origin rpy="1.57079632679 0 0" xyz="0 0 0"/>
      <geometry>
        <cylinder length="0.04" radius="0.046"/>
      </geometry>
    </collision> -->
    <inertial>
      <origin rpy="0 0 0" xyz="0.00541 0.00074 6e-06"/>
      <mass value="0.591"/>
      <inertia ixx="0.000374268192" ixy="3.6844422e-05" ixz="9.86754e-07" iyy="0.000635923669" iyz="1.172894e-06" izz="0.000457647394"/>
    </inertial>
  </link>
  <joint name="RR_hip_fixed" type="fixed">
    <origin rpy="0 0 0" xyz="0 -0.08 0"/>
    <parent link="RR_hip"/>
    <child link="RR_thigh_shoulder"/>
  </joint>
  <!-- this link is only for collision -->
  <link name="RR_thigh_shoulder">
    <!-- <collision>
      <origin rpy="1.57079632679 0 0" xyz="0 0 0"/>
      <geometry>
        <cylinder length="0.032" radius="0.041"/>
      </geometry>
    </collision> -->
  </link>
  <joint name="RR_thigh_joint" type="revolute">
    <origin rpy="0 0 0" xyz="0 -0.08 0"/>
    <parent link="RR_hip"/>
    <child link="RR_thigh"/>
    <axis xyz="0 1 0"/>
    <dynamics damping="0" friction="0"/>
    <limit effort="23.7" lower="-0.663225115758" upper="2.96705972839" velocity="30.1"/>
  </joint>
  <link name="RR_thigh">
    <visual>
      <origin rpy="0 0 0" xyz="0 0 0"/>
      <geometry>
        <mesh filename="../meshes/thigh_mirror.dae" scale="1 1 1"/>
      </geometry>
      <material name="orange"/>
    </visual>
    <collision>
      <origin rpy="0 1.57079632679 0" xyz="0 0 -0.1065"/>
      <geometry>
        <box size="0.213 0.0245 0.034"/>
      </geometry>
    </collision>
    <inertial>
      <origin rpy="0 0 0" xyz="-0.003468 0.018947 -0.032736"/>
      <mass value="0.92"/>
      <inertia ixx="0.005851561134" ixy="-1.783284e-06" ixz="0.000328291374" iyy="0.005596155105" iyz="-2.1430713e-05" izz="0.00107157026"/>
    </inertial>
  </link>
  <joint name="RR_calf_joint" type="revolute">
    <origin rpy="0 0 0" xyz="0 0 -0.213"/>
    <parent link="RR_thigh"/>
    <child link="RR_calf"/>
    <axis xyz="0 1 0"/>
    <dynamics damping="0" friction="0"/>
    <limit effort="23.7" lower="-2.72271363311" upper="-0.837758040957" velocity="30.1"/>
  </joint>
  <link name="RR_calf">
    <visual>
      <origin rpy="0 0 0" xyz="0 0 0"/>
      <geometry>
        <mesh filename="../meshes/calf.dae" scale="1 1 1"/>
      </geometry>
      <material name="orange"/>
    </visual>
    <collision>
      <origin rpy="0 1.57079632679 0" xyz="0 0 -0.1065"/>
      <geometry>
        <box size="0.213 0.016 0.016"/>
      </geometry>
    </collision>
    <inertial>
      <origin rpy="0 0 0" xyz="0.006286 0.001307 -0.122269"/>
      <mass value="0.131"/>
      <inertia ixx="0.002939186297" ixy="1.440899e-06" ixz="-0.00010535955" iyy="0.00295576935" iyz="-2.4397752e-05" izz="3.0273372e-05"/>
    </inertial>
  </link>
  <joint name="RR_foot_fixed" type="fixed" dont_collapse="true">
    <origin rpy="0 0 0" xyz="0 0 -0.213"/>
    <parent link="RR_calf"/>
    <child link="RR_foot"/>
  </joint>
  <link name="RR_foot">
    <visual>
      <origin rpy="0 0 0" xyz="0 0 0"/>
      <geometry>
        <sphere radius="0.01"/>
      </geometry>
      <material name="orange"/>
    </visual>
    <collision>
      <origin rpy="0 0 0" xyz="0 0 0"/>
      <geometry>
        <sphere radius="0.02"/>
      </geometry>
    </collision>
    <inertial>
      <mass value="0.06"/>
      <inertia ixx="9.6e-06" ixy="0.0" ixz="0.0" iyy="9.6e-06" iyz="0.0" izz="9.6e-06"/>
    </inertial>
  </link>
  <transmission name="RR_hip_tran">
    <type>transmission_interface/SimpleTransmission</type>
    <joint name="RR_hip_joint">
      <hardwareInterface>hardware_interface/EffortJointInterface</hardwareInterface>
    </joint>
    <actuator name="RR_hip_motor">
      <hardwareInterface>hardware_interface/EffortJointInterface</hardwareInterface>
      <mechanicalReduction>1</mechanicalReduction>
    </actuator>
  </transmission>
  <transmission name="RR_thigh_tran">
    <type>transmission_interface/SimpleTransmission</type>
    <joint name="RR_thigh_joint">
      <hardwareInterface>hardware_interface/EffortJointInterface</hardwareInterface>
    </joint>
    <actuator name="RR_thigh_motor">
      <hardwareInterface>hardware_interface/EffortJointInterface</hardwareInterface>
      <mechanicalReduction>1</mechanicalReduction>
    </actuator>
  </transmission>
  <transmission name="RR_calf_tran">
    <type>transmission_interface/SimpleTransmission</type>
    <joint name="RR_calf_joint">
      <hardwareInterface>hardware_interface/EffortJointInterface</hardwareInterface>
    </joint>
    <actuator name="RR_calf_motor">
      <hardwareInterface>hardware_interface/EffortJointInterface</hardwareInterface>
      <mechanicalReduction>1</mechanicalReduction>
    </actuator>
  </transmission>
  <joint name="RL_hip_joint" type="revolute">
    <origin rpy="0 0 0" xyz="-0.1881 0.04675 0"/>
    <parent link="trunk"/>
    <child link="RL_hip"/>
    <axis xyz="1 0 0"/>
    <dynamics damping="0" friction="0"/>
    <limit effort="23.7" lower="-1.0471975512" upper="1.0471975512" velocity="30.1"/>
  </joint>
  <link name="RL_hip">
    <visual>
      <origin rpy="0 3.14159265359 0" xyz="0 0 0"/>
      <geometry>
        <mesh filename="../meshes/hip.dae" scale="1 1 1"/>
      </geometry>
      <material name="orange"/>
    </visual>
    <!-- <collision>
      <origin rpy="1.57079632679 0 0" xyz="0 0 0"/>
      <geometry>
        <cylinder length="0.04" radius="0.046"/>
      </geometry>
    </collision> -->
    <inertial>
      <origin rpy="0 0 0" xyz="0.00541 -0.00074 6e-06"/>
      <mass value="0.591"/>
      <inertia ixx="0.000374268192" ixy="-3.6844422e-05" ixz="9.86754e-07" iyy="0.000635923669" iyz="-1.172894e-06" izz="0.000457647394"/>
    </inertial>
  </link>
  <joint name="RL_hip_fixed" type="fixed">
    <origin rpy="0 0 0" xyz="0 0.08 0"/>
    <parent link="RL_hip"/>
    <child link="RL_thigh_shoulder"/>
  </joint>
  <!-- this link is only for collision -->
  <link name="RL_thigh_shoulder">
    <!-- <collision>
      <origin rpy="1.57079632679 0 0" xyz="0 0 0"/>
      <geometry>
        <cylinder length="0.032" radius="0.041"/>
      </geometry>
    </collision> -->
  </link>
  <joint name="RL_thigh_joint" type="revolute">
    <origin rpy="0 0 0" xyz="0 0.08 0"/>
    <parent link="RL_hip"/>
    <child link="RL_thigh"/>
    <axis xyz="0 1 0"/>
    <dynamics damping="0" friction="0"/>
    <limit effort="23.7" lower="-0.663225115758" upper="2.96705972839" velocity="30.1"/>
  </joint>
  <link name="RL_thigh">
    <visual>
      <origin rpy="0 0 0" xyz="0 0 0"/>
      <geometry>
        <mesh filename="../meshes/thigh.dae" scale="1 1 1"/>
      </geometry>
      <material name="orange"/>
    </visual>
    <collision>
      <origin rpy="0 1.57079632679 0" xyz="0 0 -0.1065"/>
      <geometry>
        <box size="0.213 0.0245 0.034"/>
      </geometry>
    </collision>
    <inertial>
      <origin rpy="0 0 0" xyz="-0.003468 -0.018947 -0.032736"/>
      <mass value="0.92"/>
      <inertia ixx="0.005851561134" ixy="1.783284e-06" ixz="0.000328291374" iyy="0.005596155105" iyz="2.1430713e-05" izz="0.00107157026"/>
    </inertial>
  </link>
  <joint name="RL_calf_joint" type="revolute">
    <origin rpy="0 0 0" xyz="0 0 -0.213"/>
    <parent link="RL_thigh"/>
    <child link="RL_calf"/>
    <axis xyz="0 1 0"/>
    <dynamics damping="0" friction="0"/>
    <limit effort="23.7" lower="-2.72271363311" upper="-0.837758040957" velocity="30.1"/>
  </joint>
  <link name="RL_calf">
    <visual>
      <origin rpy="0 0 0" xyz="0 0 0"/>
      <geometry>
        <mesh filename="../meshes/calf.dae" scale="1 1 1"/>
      </geometry>
      <material name="orange"/>
    </visual>
    <collision>
      <origin rpy="0 1.57079632679 0" xyz="0 0 -0.1065"/>
      <geometry>
        <box size="0.213 0.016 0.016"/>
      </geometry>
    </collision>
    <inertial>
      <origin rpy="0 0 0" xyz="0.006286 0.001307 -0.122269"/>
      <mass value="0.131"/>
      <inertia ixx="0.002939186297" ixy="1.440899e-06" ixz="-0.00010535955" iyy="0.00295576935" iyz="-2.4397752e-05" izz="3.0273372e-05"/>
    </inertial>
  </link>
  <joint name="RL_foot_fixed" type="fixed" dont_collapse="true">
    <origin rpy="0 0 0" xyz="0 0 -0.213"/>
    <parent link="RL_calf"/>
    <child link="RL_foot"/>
  </joint>
  <link name="RL_foot">
    <visual>
      <origin rpy="0 0 0" xyz="0 0 0"/>
      <geometry>
        <sphere radius="0.01"/>
      </geometry>
      <material name="orange"/>
    </visual>
    <collision>
      <origin rpy="0 0 0" xyz="0 0 0"/>
      <geometry>
        <sphere radius="0.02"/>
      </geometry>
    </collision>
    <inertial>
      <mass value="0.06"/>
      <inertia ixx="9.6e-06" ixy="0.0" ixz="0.0" iyy="9.6e-06" iyz="0.0" izz="9.6e-06"/>
    </inertial>
  </link>
  <transmission name="RL_hip_tran">
    <type>transmission_interface/SimpleTransmission</type>
    <joint name="RL_hip_joint">
      <hardwareInterface>hardware_interface/EffortJointInterface</hardwareInterface>
    </joint>
    <actuator name="RL_hip_motor">
      <hardwareInterface>hardware_interface/EffortJointInterface</hardwareInterface>
      <mechanicalReduction>1</mechanicalReduction>
    </actuator>
  </transmission>
  <transmission name="RL_thigh_tran">
    <type>transmission_interface/SimpleTransmission</type>
    <joint name="RL_thigh_joint">
      <hardwareInterface>hardware_interface/EffortJointInterface</hardwareInterface>
    </joint>
    <actuator name="RL_thigh_motor">
      <hardwareInterface>hardware_interface/EffortJointInterface</hardwareInterface>
      <mechanicalReduction>1</mechanicalReduction>
    </actuator>
  </transmission>
  <transmission name="RL_calf_tran">
    <type>transmission_interface/SimpleTransmission</type>
    <joint name="RL_calf_joint">
      <hardwareInterface>hardware_interface/EffortJointInterface</hardwareInterface>
    </joint>
    <actuator name="RL_calf_motor">
      <hardwareInterface>hardware_interface/EffortJointInterface</hardwareInterface>
      <mechanicalReduction>1</mechanicalReduction>
    </actuator>
  </transmission>

</robot>
